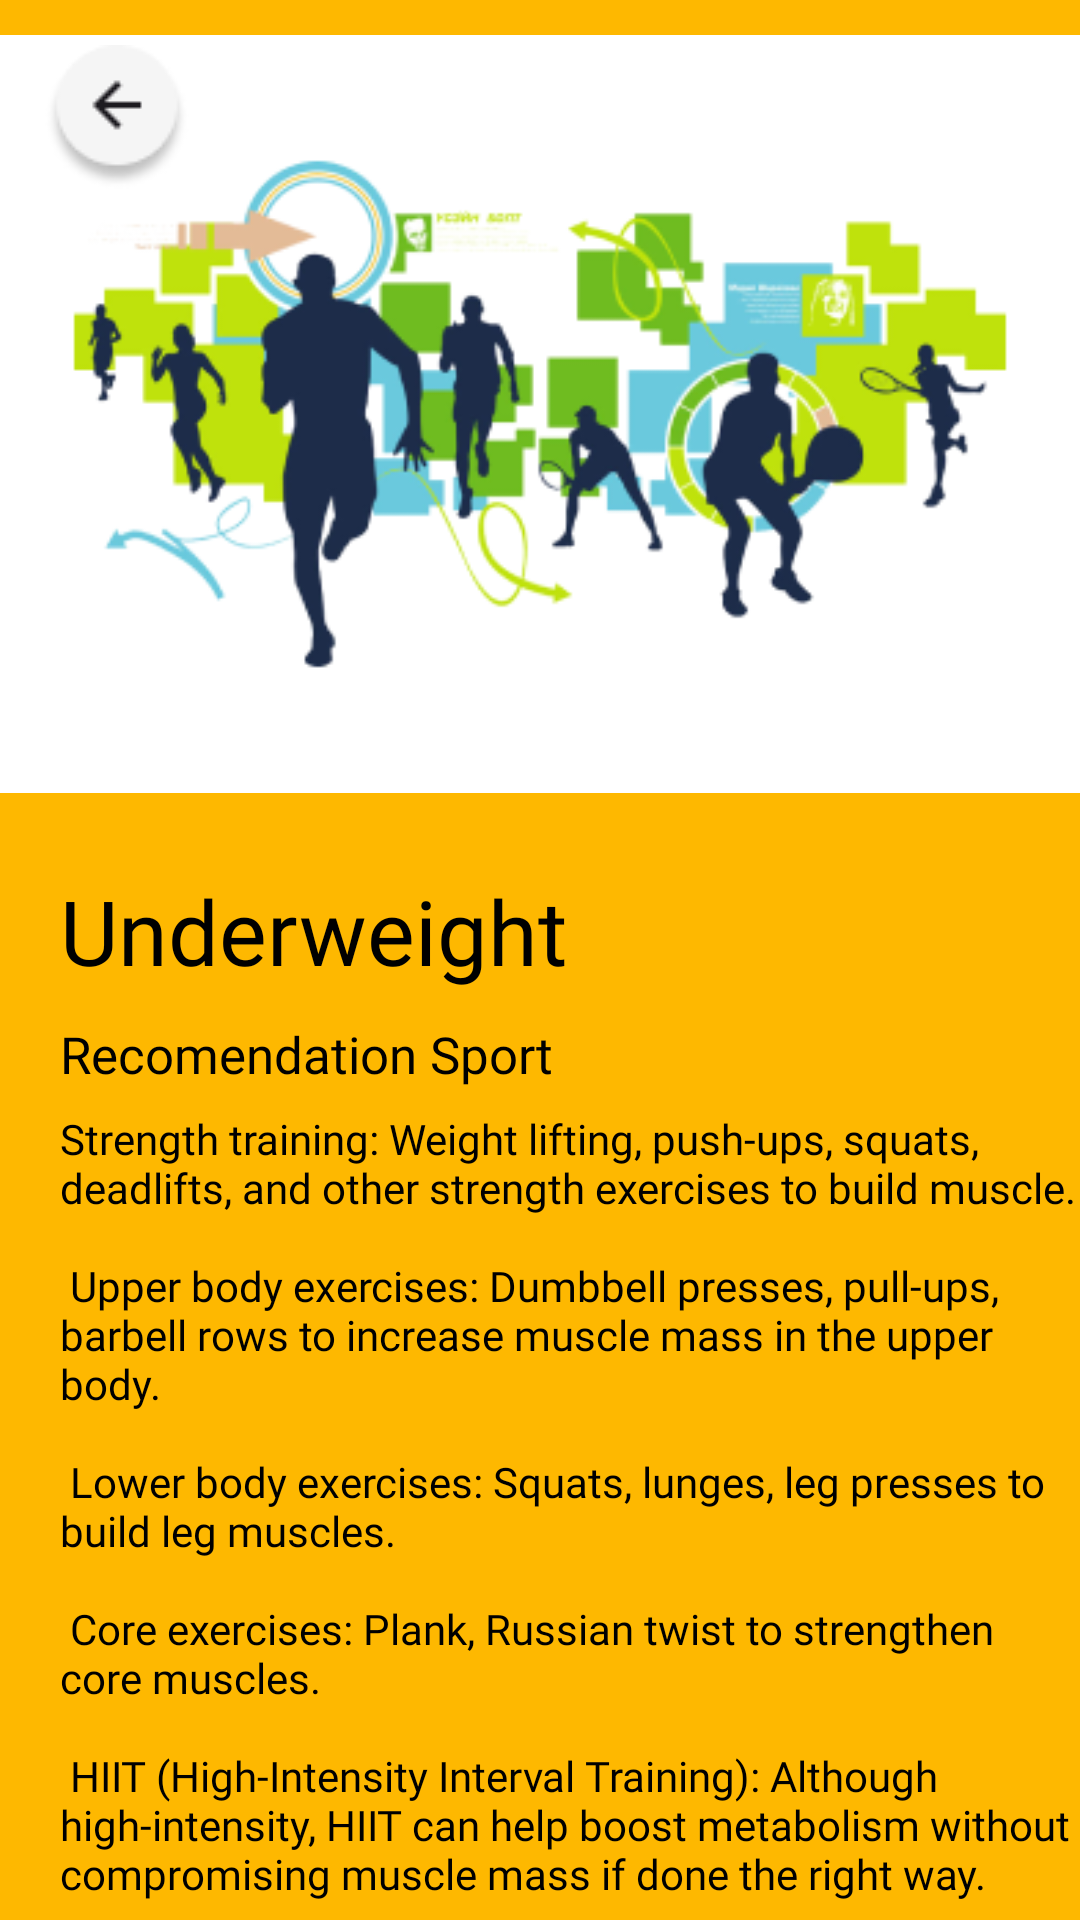

Screen size 1080 x 1920. Icon name, then its box in pixels as (x1, y1, x2, y2):
back: (51, 45, 183, 183)
